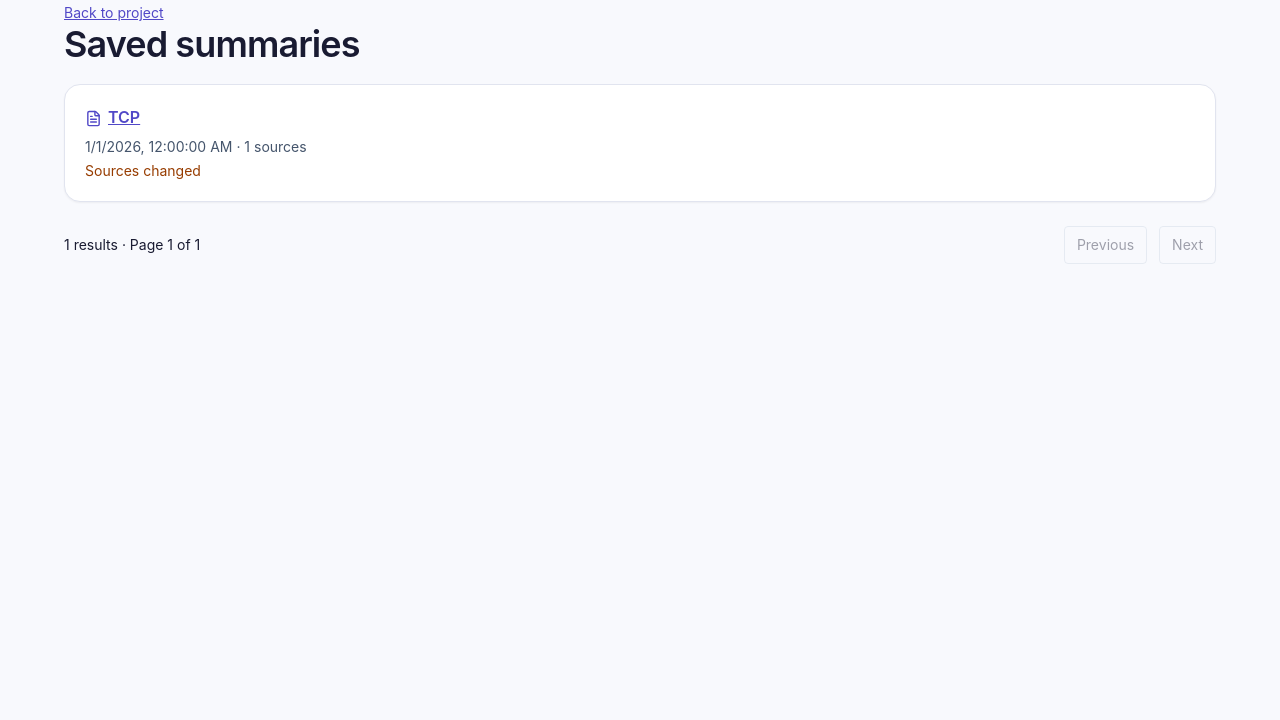
Test: opens stored summaries, edits without generation, shows stale sources and confirms deletion
Step 1. Click the link "TCP" → {"x": 113, "y": 117}, box [85,107,140,127]
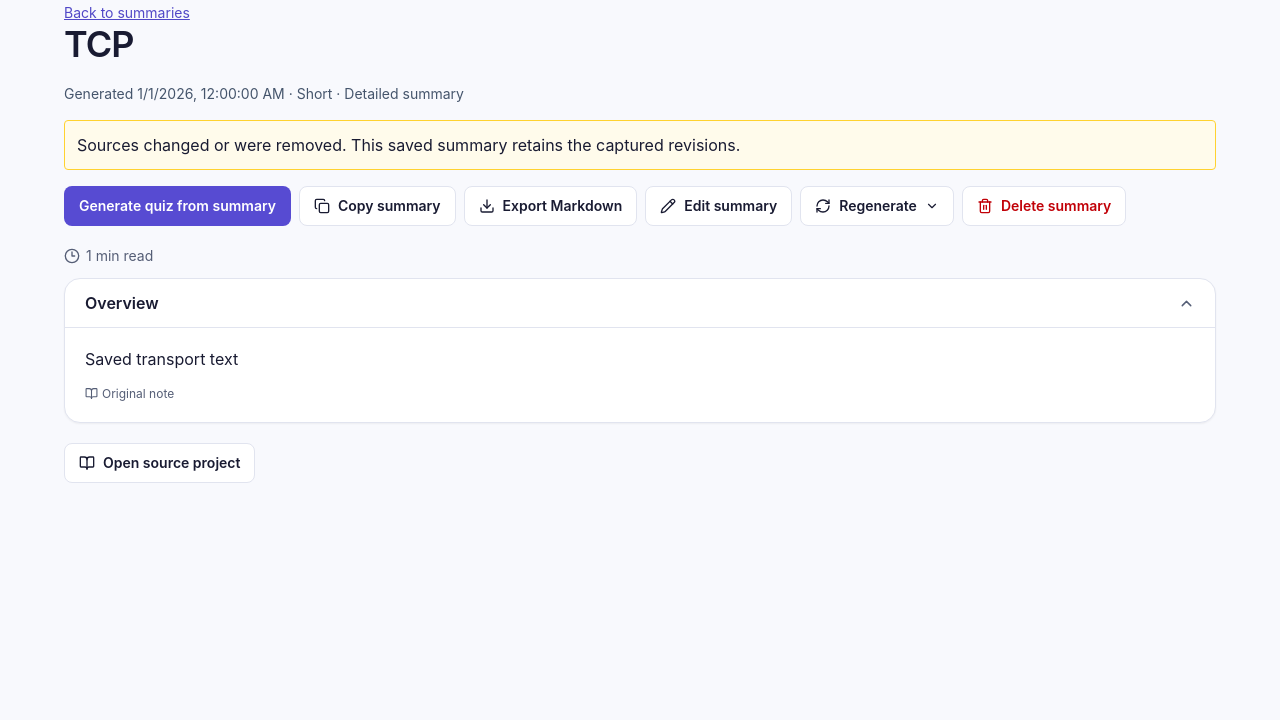
Expected: the text "Saved transport text" is shown, [85,349,238,369]
Expected: the text "Sources changed or were removed" is shown, [77,135,740,155]
Step 2. Click the button "Edit summary" → {"x": 719, "y": 206}, box [645,186,792,226]
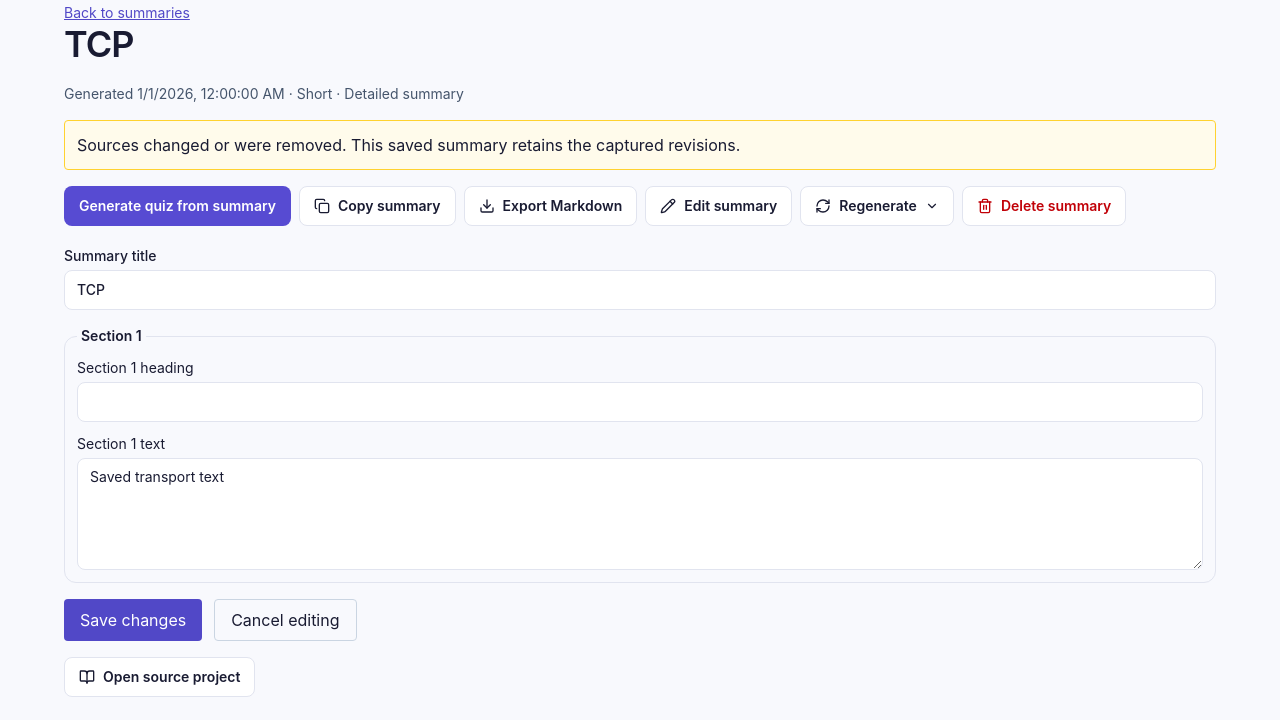
Step 3. Replace the text in the field labelled "Summary title" with "Renamed" → {"x": 640, "y": 290}, box [64,270,1216,310]
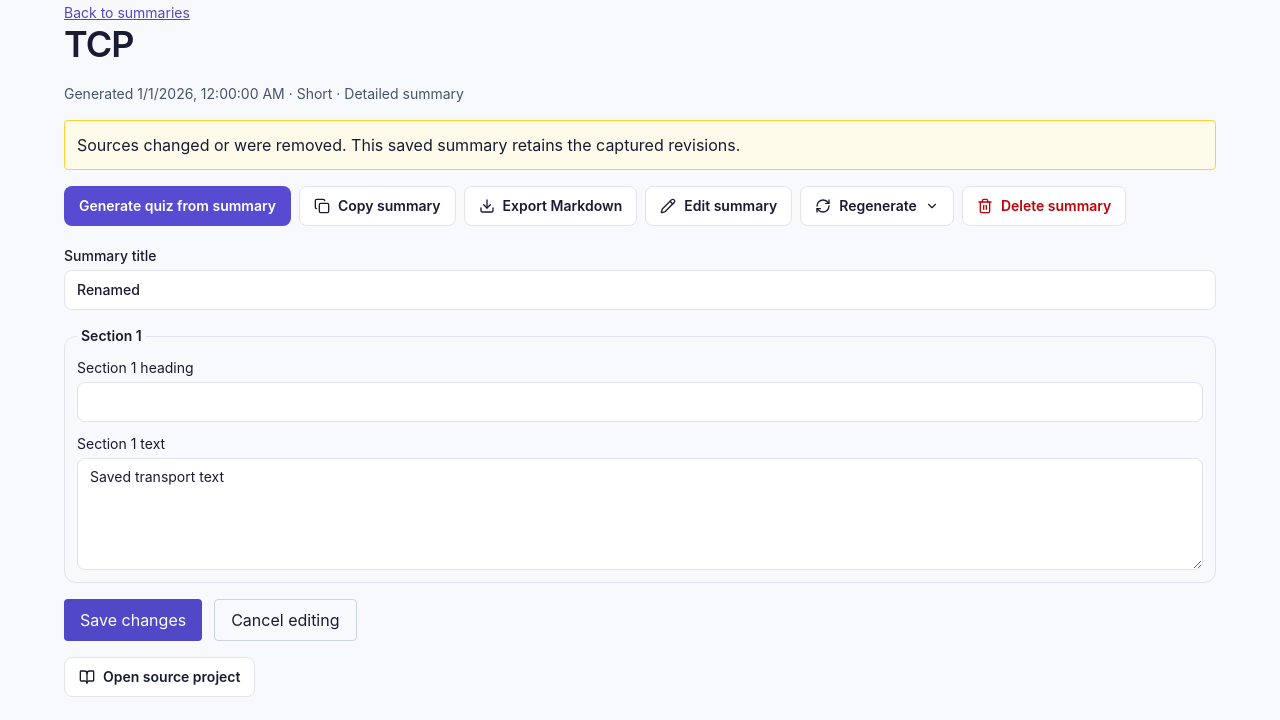
Step 4. Click the button "Save changes" → {"x": 133, "y": 620}, box [64,599,202,641]
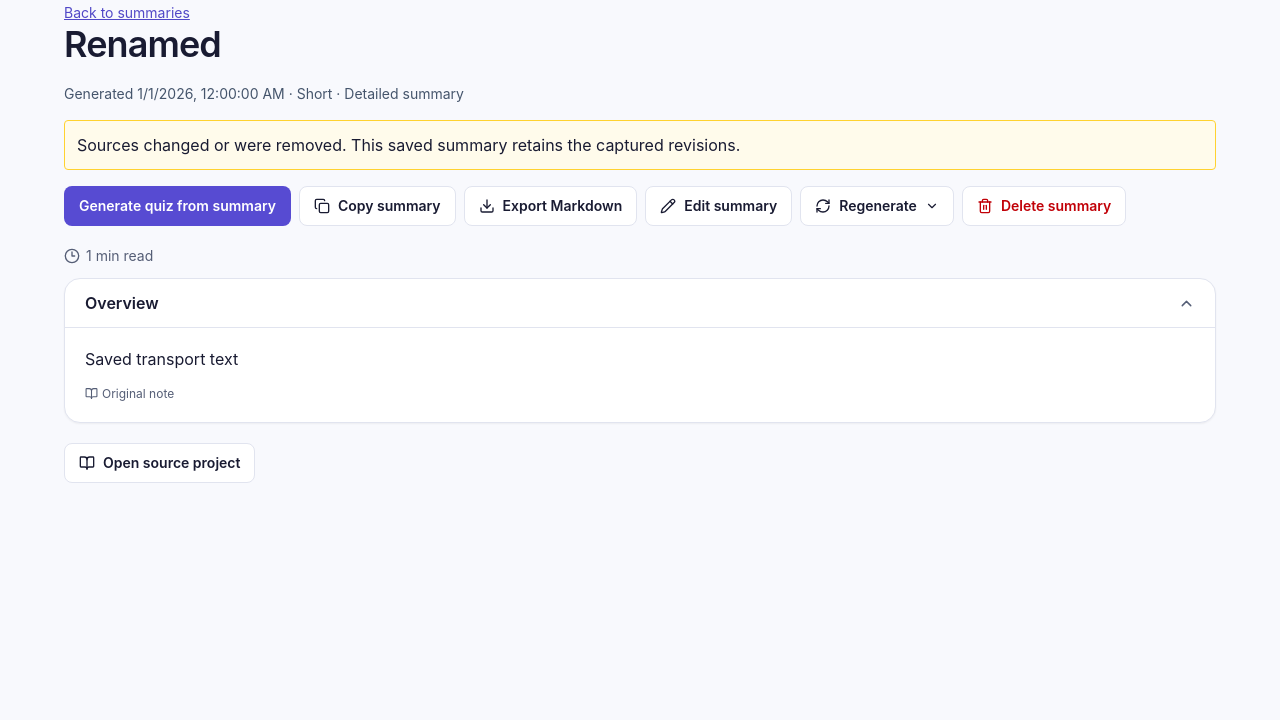
Expected: the heading "Renamed" is shown, [64,22,221,66]
Step 5. Click the button "Delete summary" → {"x": 1044, "y": 206}, box [962,186,1126,226]
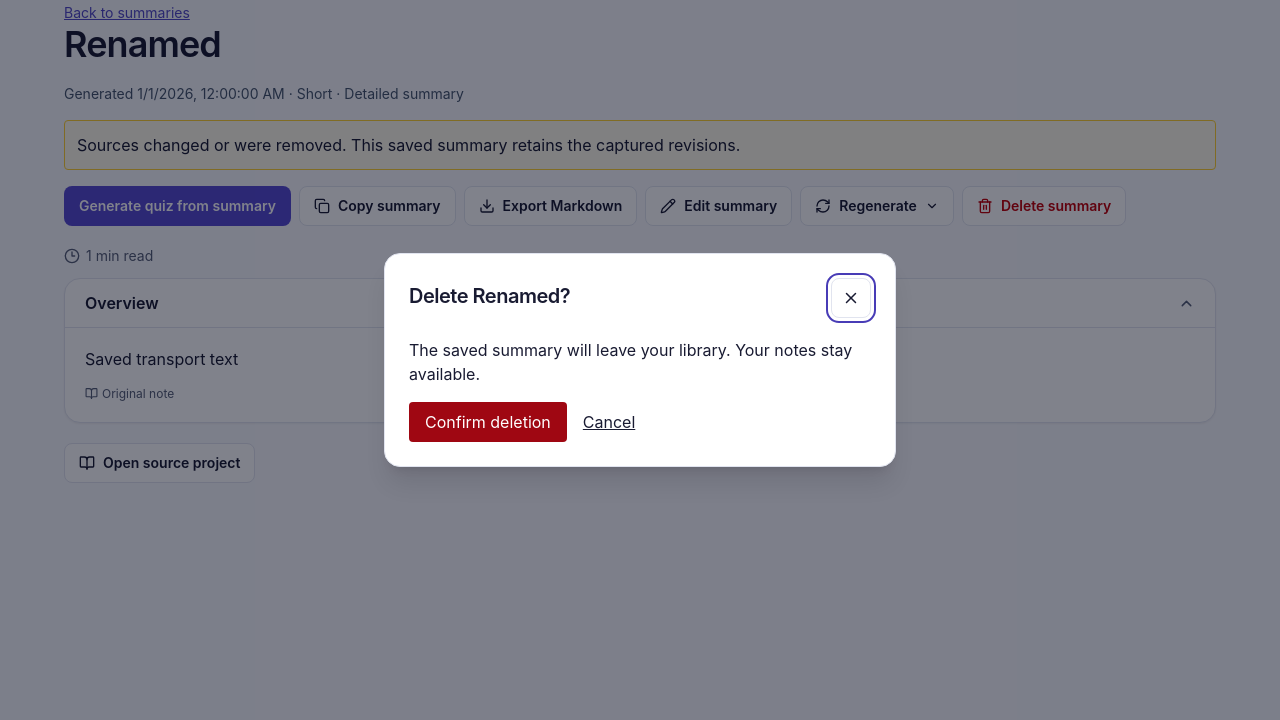
Step 6. Click the button "Confirm deletion" → {"x": 488, "y": 422}, box [409,402,567,442]
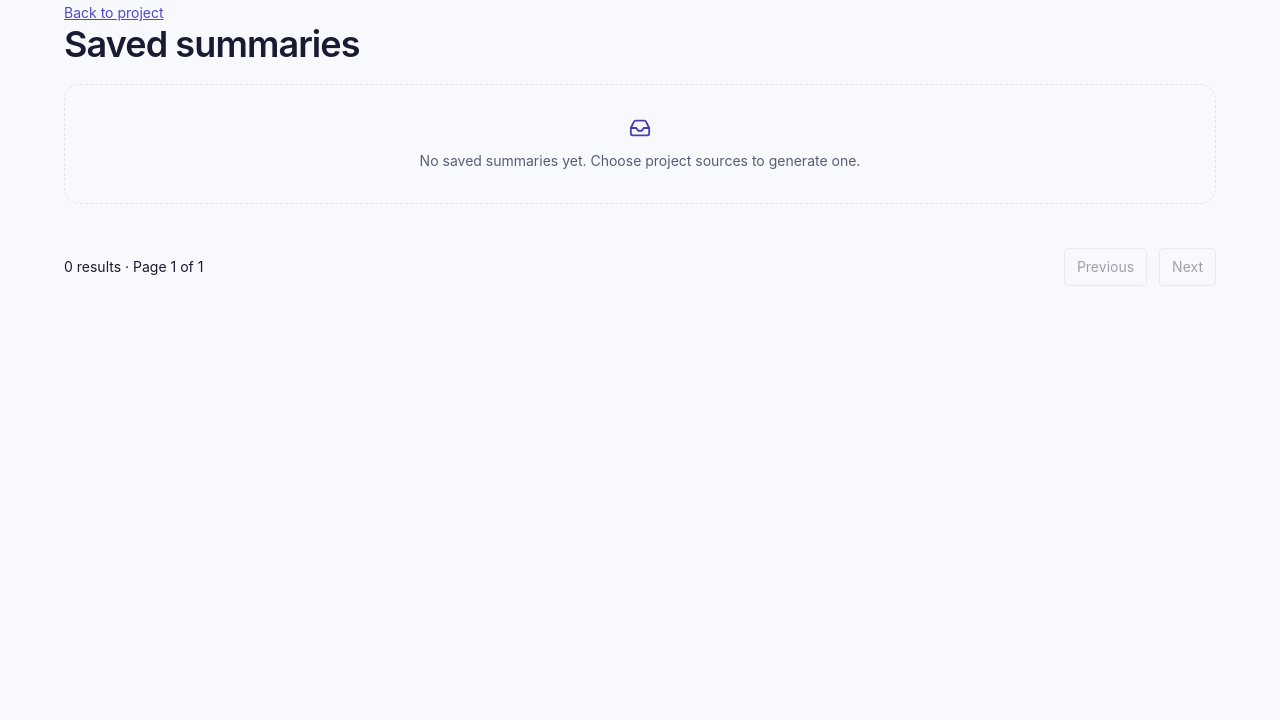
Expected: the text "No saved summaries yet" is shown, [420,152,860,169]
